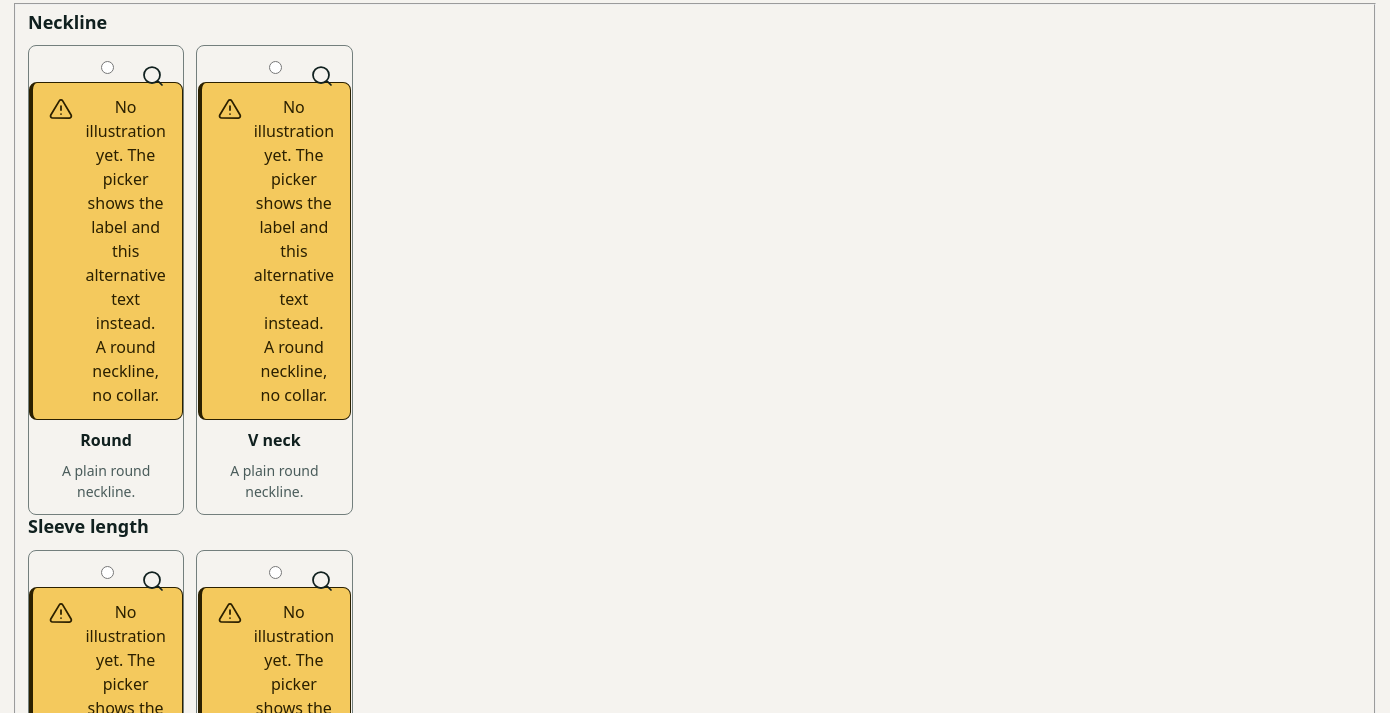
Test: shows a blocking violation in the summary, naming both options, and never reaches a clean summary
The image size is (1390, 713).
Click the radio button with aria-label "Round": [107, 68] box [101, 61, 114, 74]
(page scrolled)
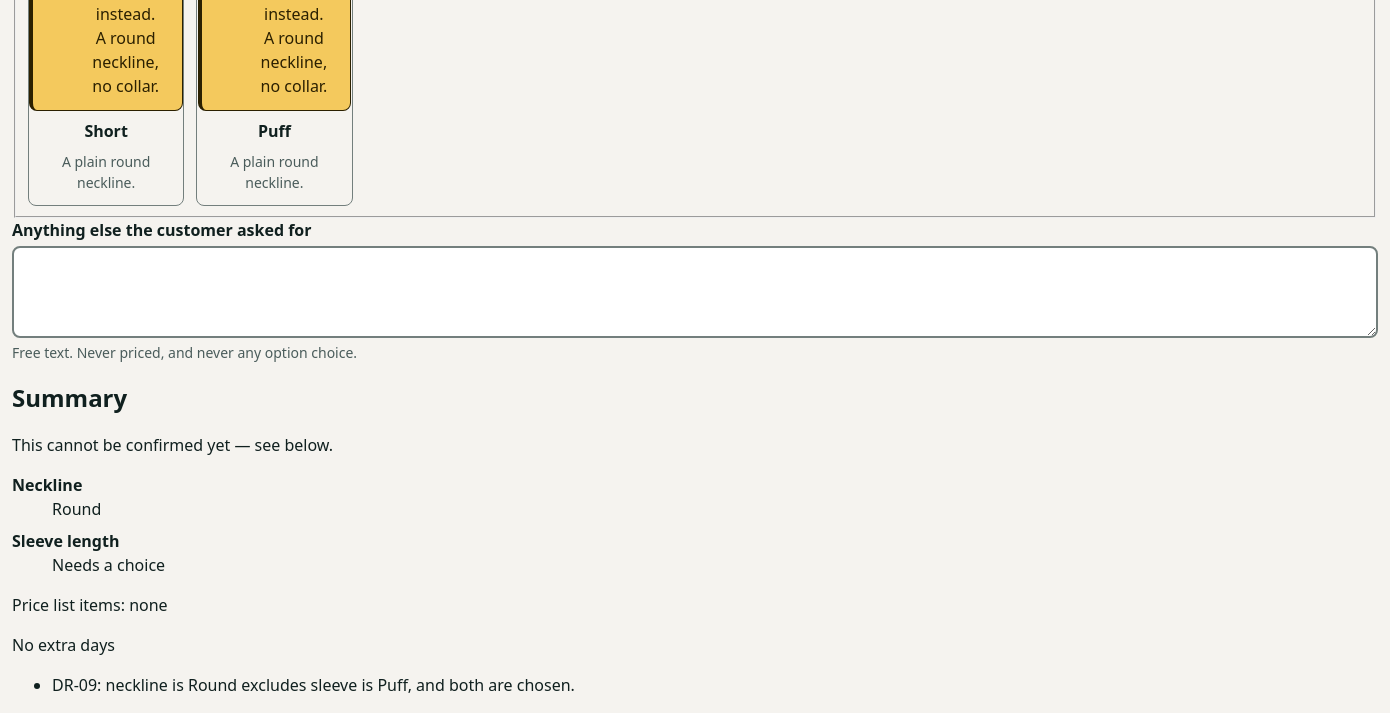
Expected: the text "This cannot be confirmed yet — see below." is shown, [12, 434, 333, 456]
Expected: the list item "DR-09: neckline is Round excludes sleeve is Puff, and both are chosen." is shown, [52, 674, 575, 696]
